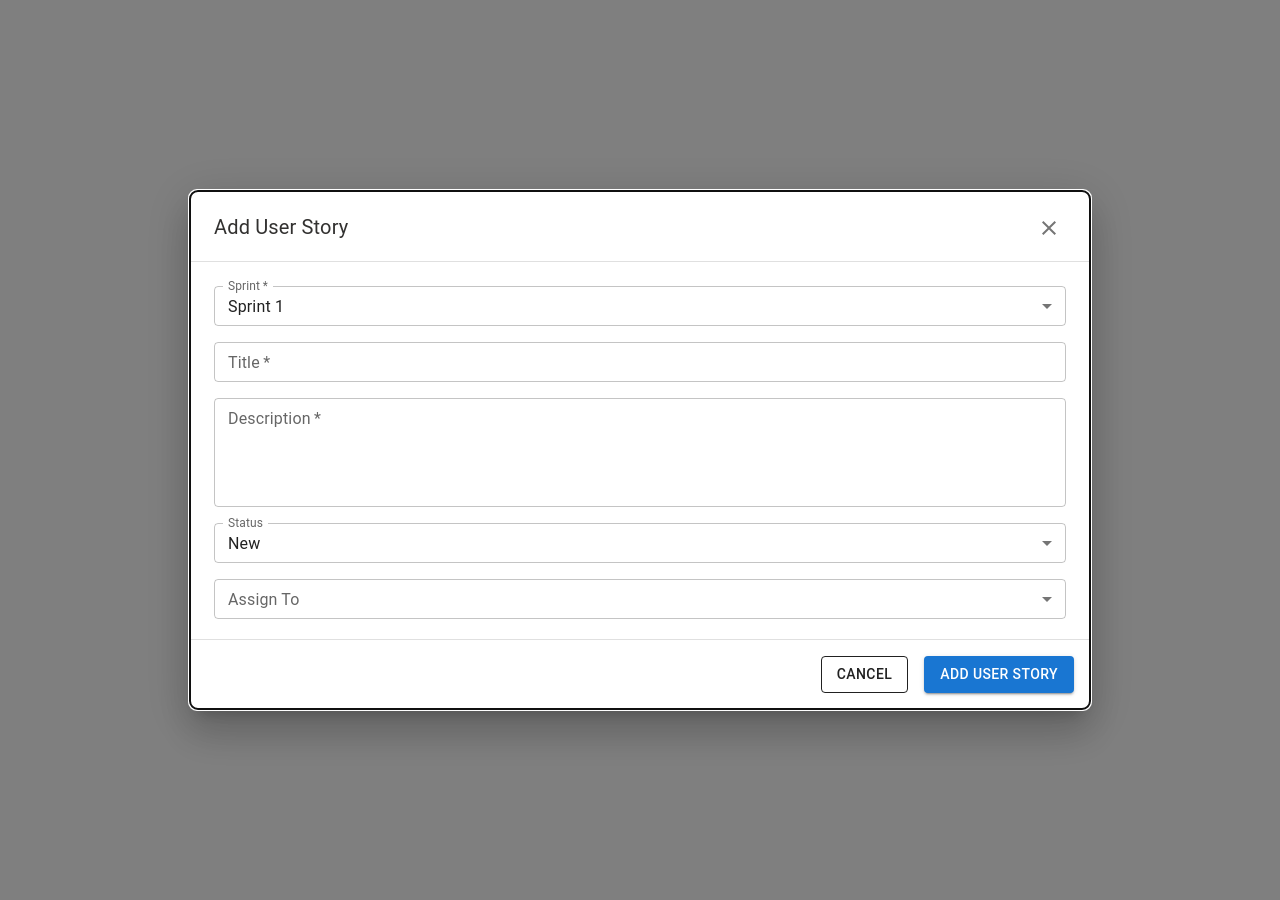
Test: UserStoryDialog › Add mode › shows validation errors on empty save
Click the button "Add User Story" at point(999, 675), box [924,656,1074,693]
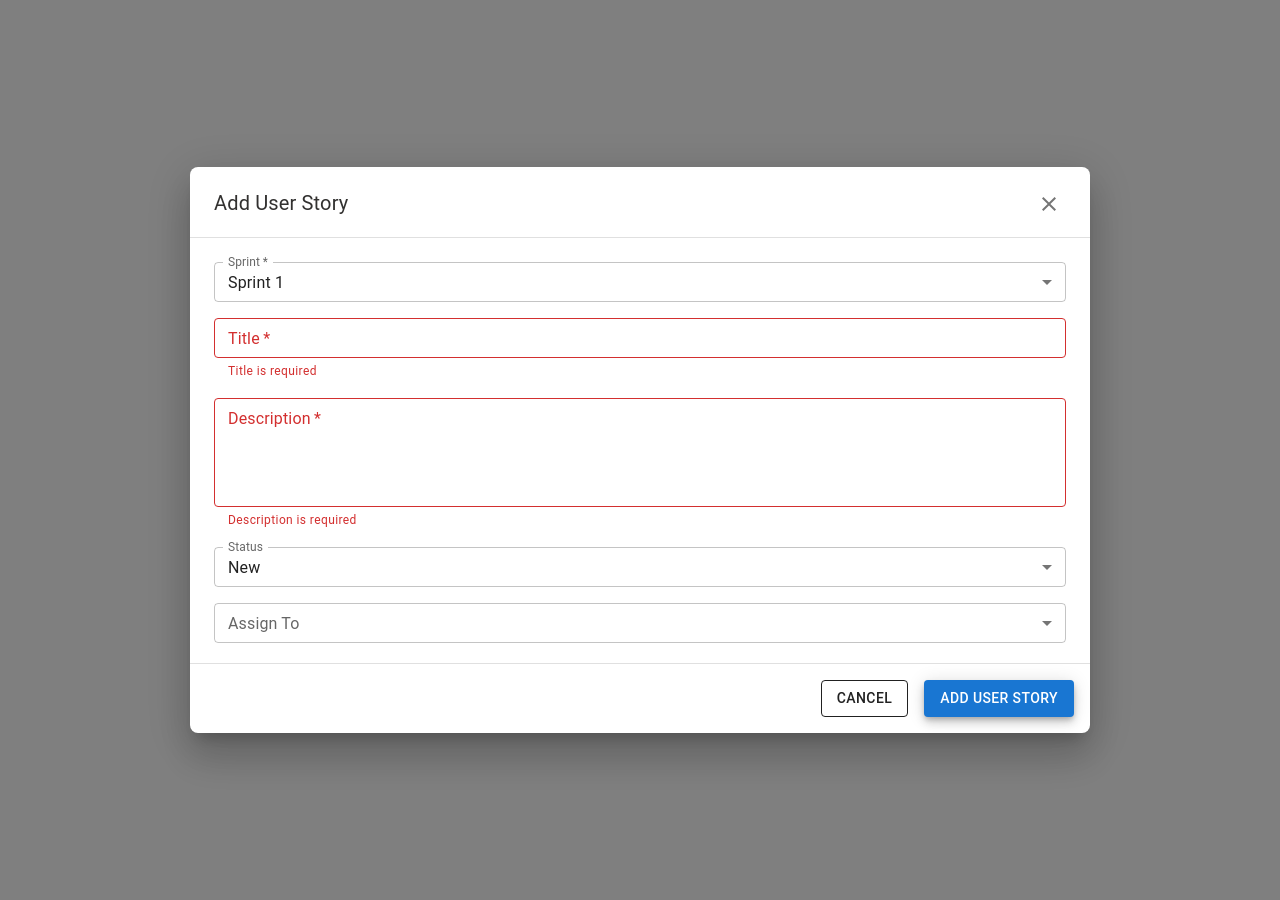
expect the text "Title is required" is shown: met, box [228,364,317,378]
expect the text "Description is required" is shown: met, box [228,513,357,527]
